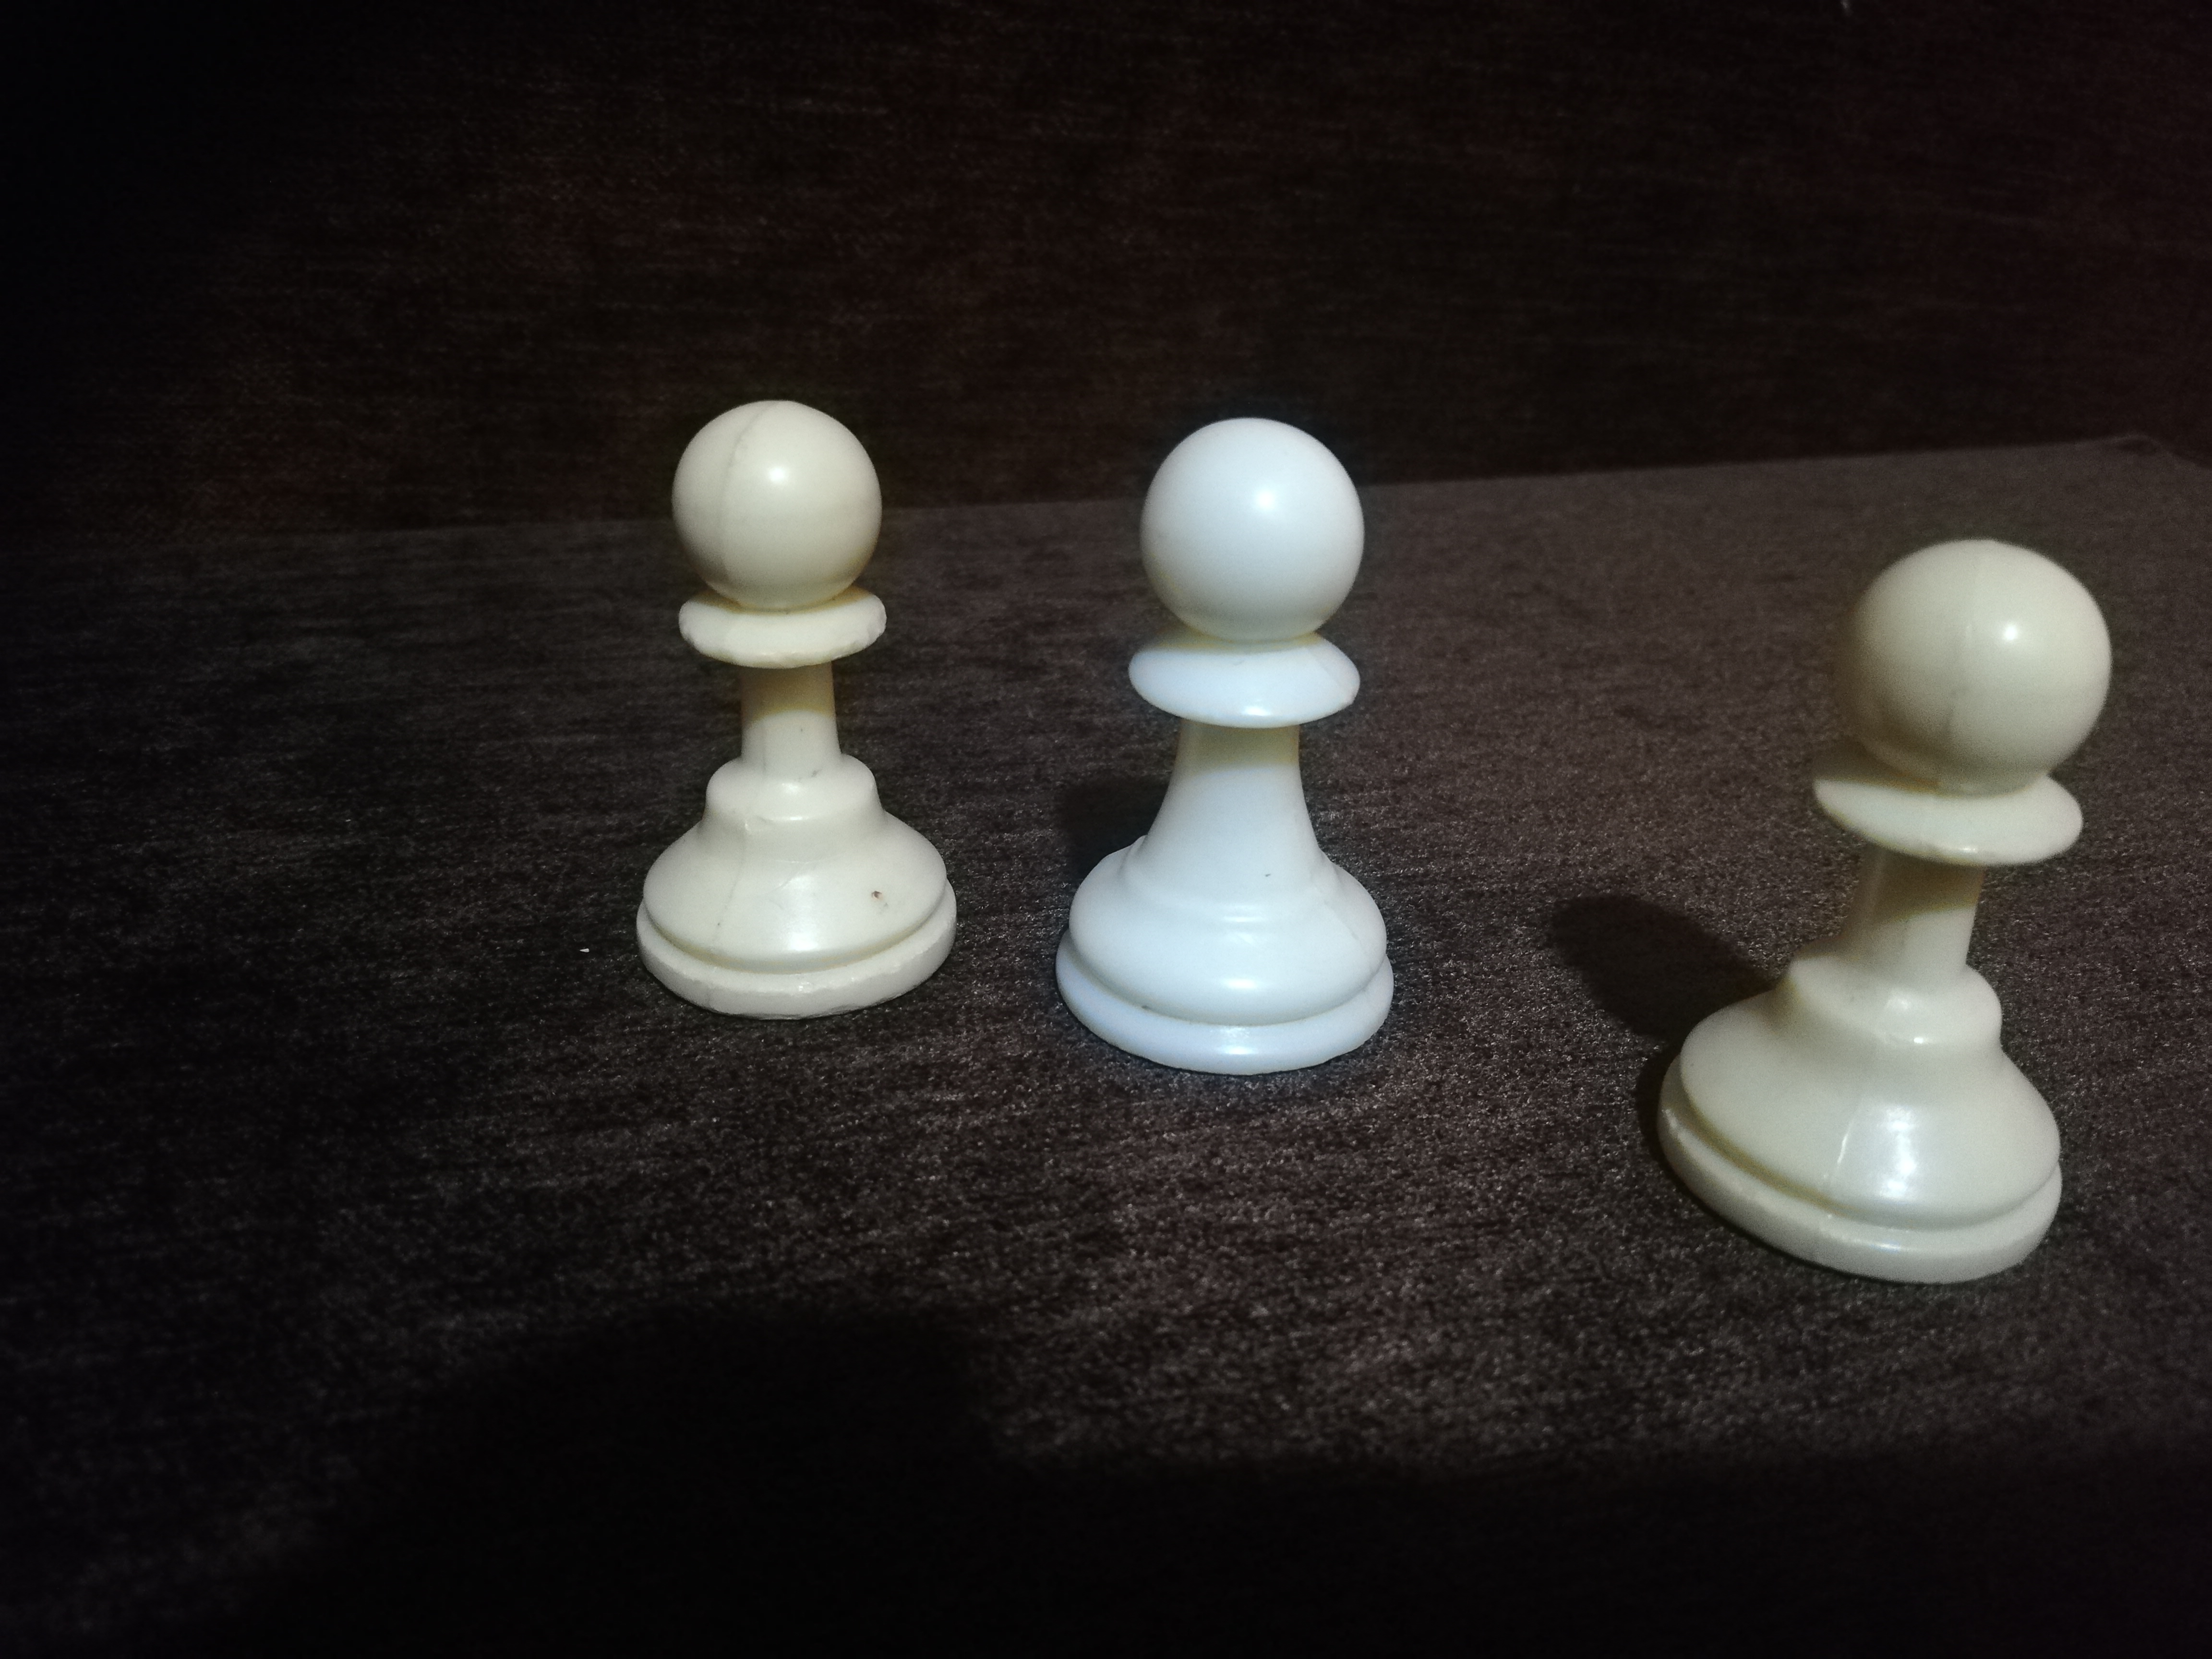Pawn: (1665, 517, 2127, 1265), (1053, 419, 1396, 1087), (643, 397, 964, 1020)
